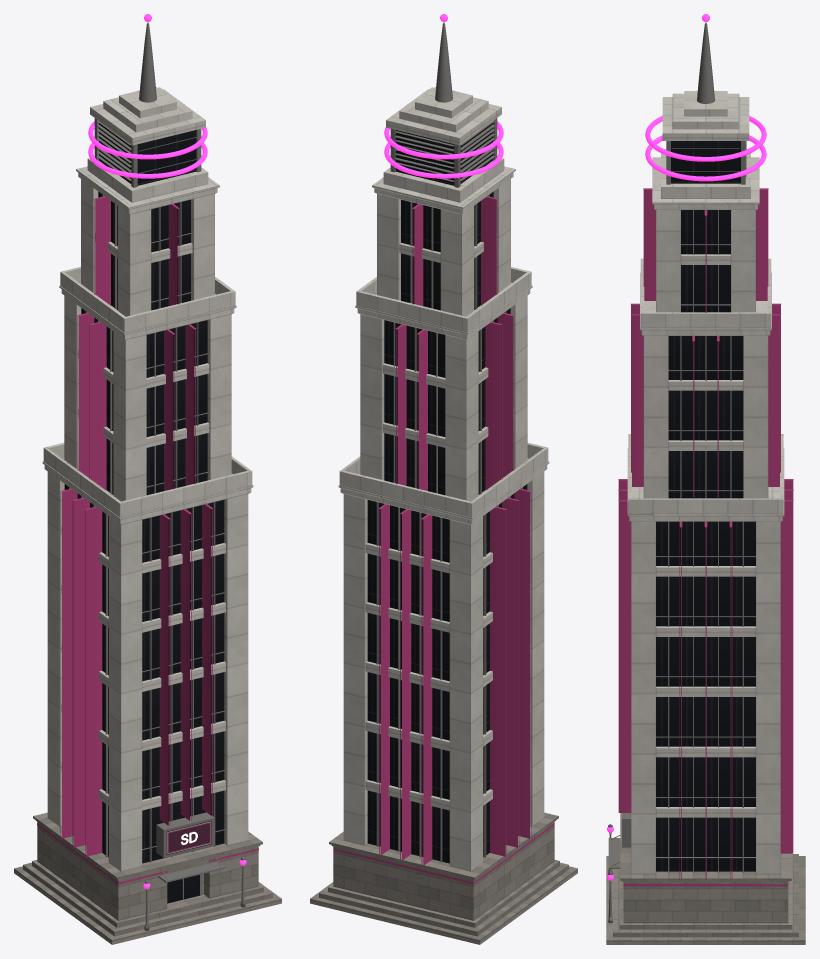
Rendered from s32-solar-dao.glb.
3 renders of one model, left to right at view 1: azimuth 30°, elevation 25°; view 2: azimuth 150°, elevation 25°; view 3: azimuth 270°, elevation 25°, orthographic.
Parts seen in each view (by area): view 1: Landmark · Solar DAO (Series 32); view 2: Landmark · Solar DAO (Series 32); view 3: Landmark · Solar DAO (Series 32).
Boxes of the visible parts, bbox=[...] form: Landmark · Solar DAO (Series 32): bbox=[14, 14, 281, 944]; Landmark · Solar DAO (Series 32): bbox=[310, 14, 577, 944]; Landmark · Solar DAO (Series 32): bbox=[606, 14, 805, 944].
Bounding box in the file's own units: 12 × 59 × 12.
7 materials, 4 textured.
